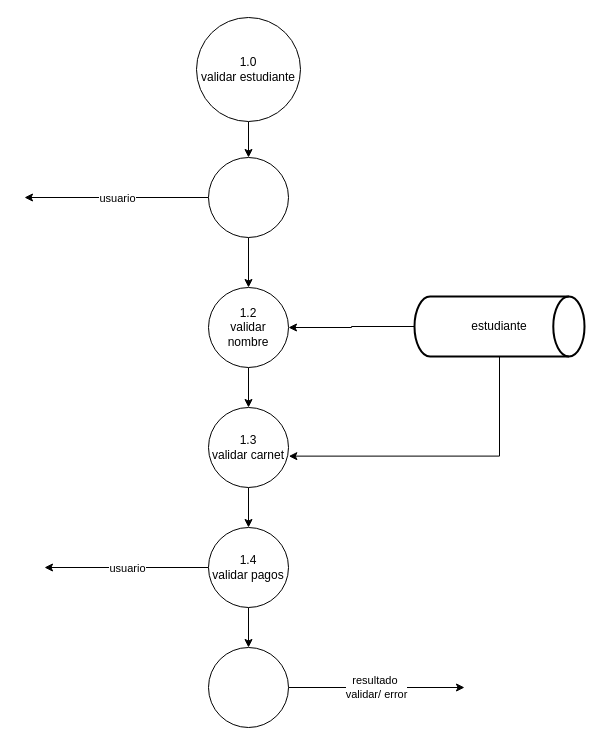
Image size: 603x745. Some labels were removed from this diagram. Each missing label, with the centre of its shape:
1.1 validar datos: the point at 248,197
1.5 confirmacion de estudiante: the point at 248,687
